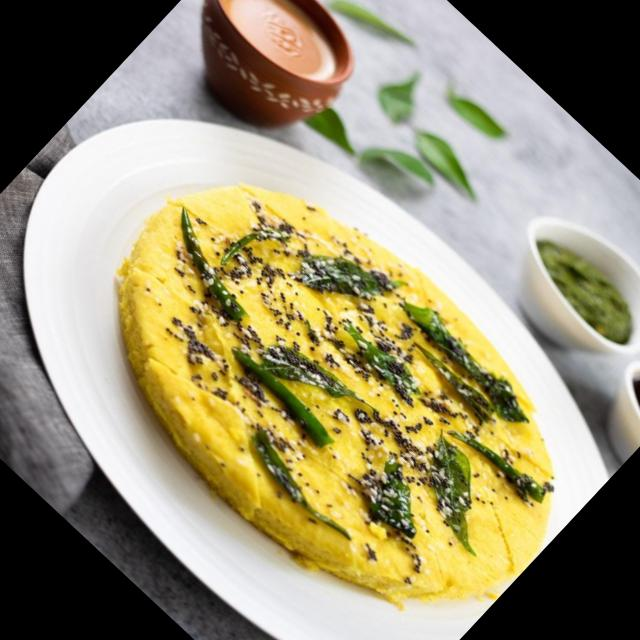dhokla: (47, 121, 620, 640)
